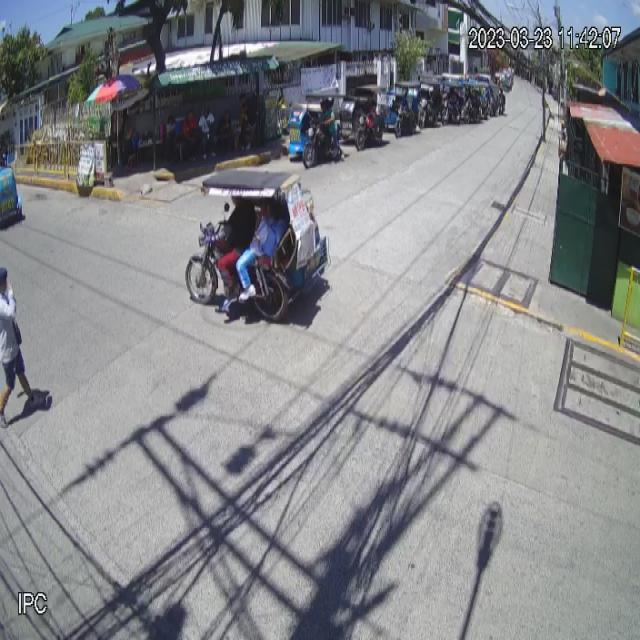Tricycle: (186, 169, 331, 326)
